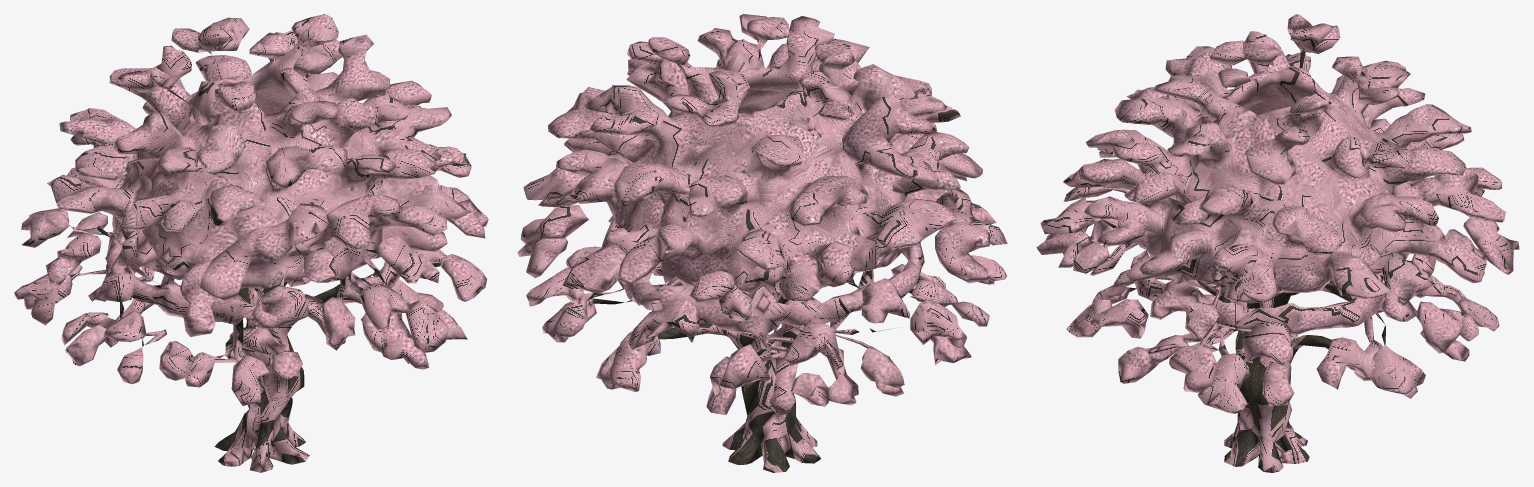
Rendered from cherry.glb.
The picture shows the model from 3 angles, left to right: view 1: azimuth 30°, elevation 25°; view 2: azimuth 150°, elevation 25°; view 3: azimuth 270°, elevation 25°; orthographic projection. The views are drawn at different scales.
Size of the model in its own units: 5.67 by 5.17 by 5.52.
Materials: 1 (1 with a texture image).
